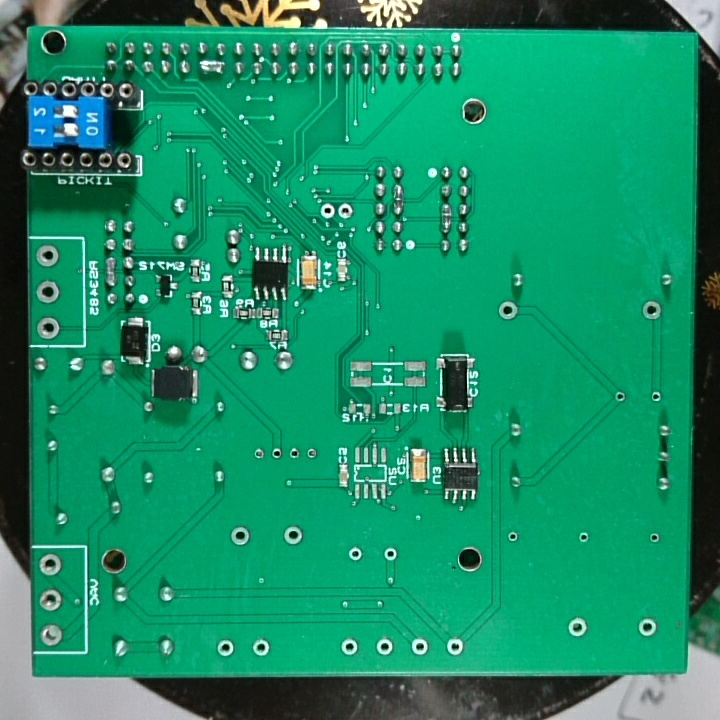F: (34, 280, 63, 309), (37, 620, 65, 650), (36, 551, 64, 580), (34, 315, 63, 342), (32, 243, 61, 270), (37, 587, 63, 616), (566, 615, 589, 641), (639, 298, 662, 323), (282, 524, 305, 549), (497, 298, 520, 322), (230, 524, 252, 549), (251, 636, 274, 659), (408, 636, 430, 660), (339, 636, 361, 660), (636, 617, 658, 639), (215, 638, 236, 660), (374, 635, 394, 658), (444, 635, 462, 660), (345, 544, 365, 565), (337, 200, 354, 223), (381, 544, 399, 565), (318, 202, 337, 220), (303, 444, 320, 464), (504, 529, 522, 547), (251, 446, 268, 465), (610, 389, 629, 405), (285, 446, 302, 463), (649, 389, 664, 406), (648, 529, 662, 547), (576, 529, 590, 546), (270, 446, 284, 463)
P: (390, 182, 408, 217), (102, 254, 119, 291), (196, 57, 227, 77), (437, 201, 455, 235)
